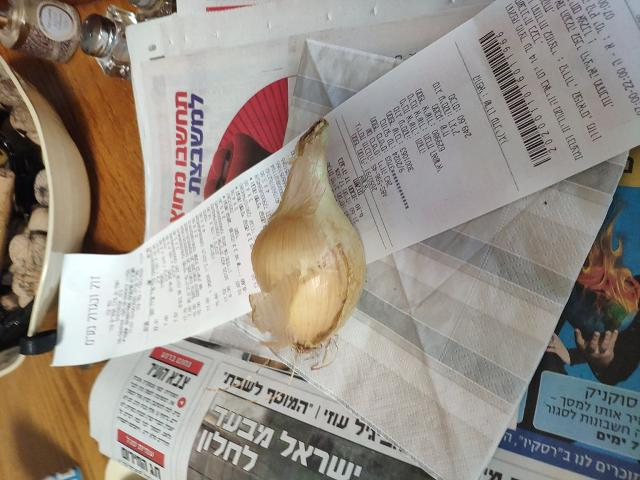onion: (252, 148, 365, 348)
